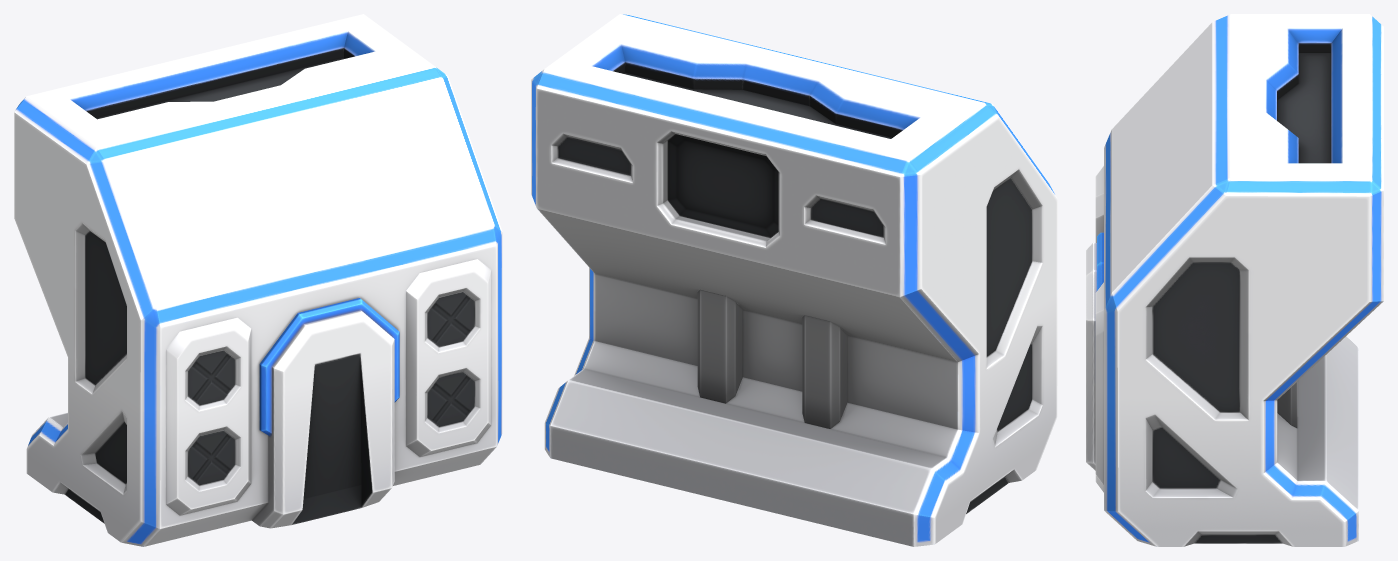
The model's file is obj_terminal.gltf.
The picture shows the model from 3 angles, left to right: view 1: azimuth 30°, elevation 25°; view 2: azimuth 150°, elevation 25°; view 3: azimuth 270°, elevation 25°; orthographic projection. The views are drawn at different scales.
Parts seen in each view (by area): view 1: obj_terminal; view 2: obj_terminal; view 3: obj_terminal.
Part boxes in pixels (x1,y1,x2,y2): obj_terminal: [14, 14, 502, 546]; obj_terminal: [531, 14, 1057, 546]; obj_terminal: [1086, 14, 1383, 546].
Size of the model in its own units: 1.15 by 1.11 by 0.8247.
1 material, 1 textured.
